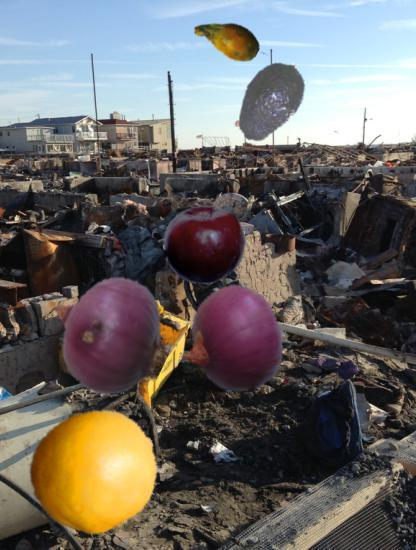Avocado: (226, 57, 314, 145)
Cactus: (193, 4, 262, 73)
Grapefruit: (29, 406, 159, 536)
Onion: (178, 276, 302, 400), (49, 272, 173, 396)
Plum: (163, 203, 247, 287)
